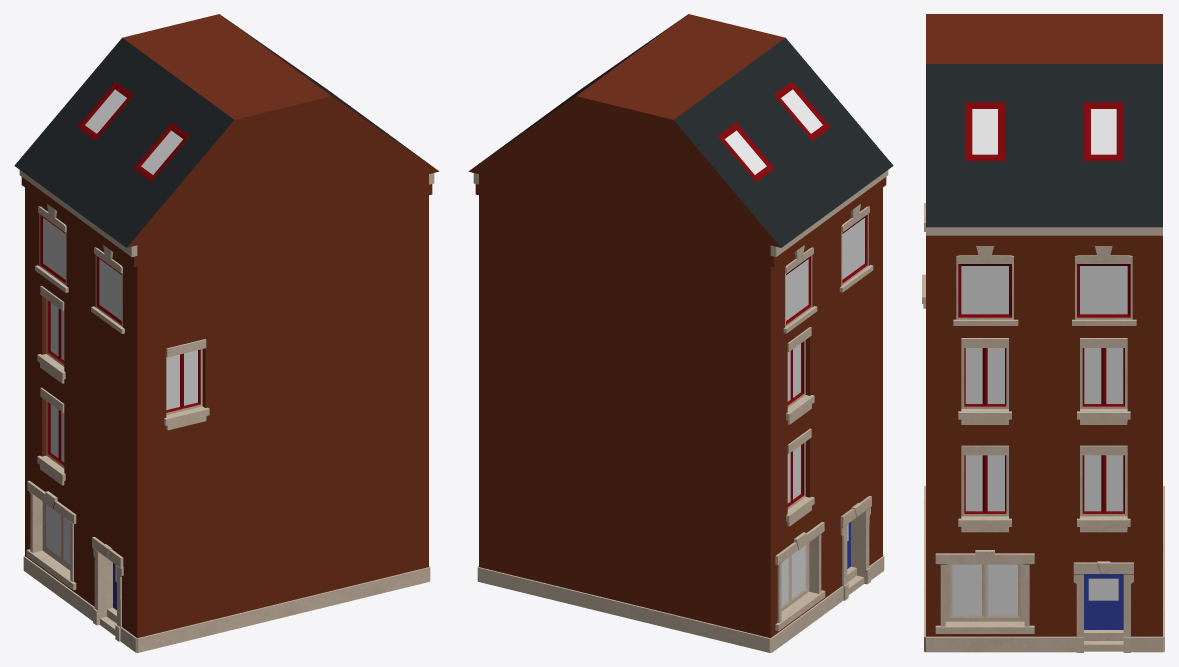
Rendered from TESTAMIENNOISE2.fbx.
3 renders of one model, left to right at view 1: azimuth 30°, elevation 25°; view 2: azimuth 150°, elevation 25°; view 3: azimuth 270°, elevation 25°, orthographic. The views are drawn at different scales.
Visible parts, largest first — view 1: Amiennoise2_RETOPO; view 2: Amiennoise2_RETOPO; view 3: Amiennoise2_RETOPO.
Part boxes in pixels (<box>): Amiennoise2_RETOPO: <box>14,14,439,652</box>; Amiennoise2_RETOPO: <box>468,14,893,652</box>; Amiennoise2_RETOPO: <box>922,14,1164,652</box>.
Bounding box in the file's own units: 966 × 1500 × 614.
